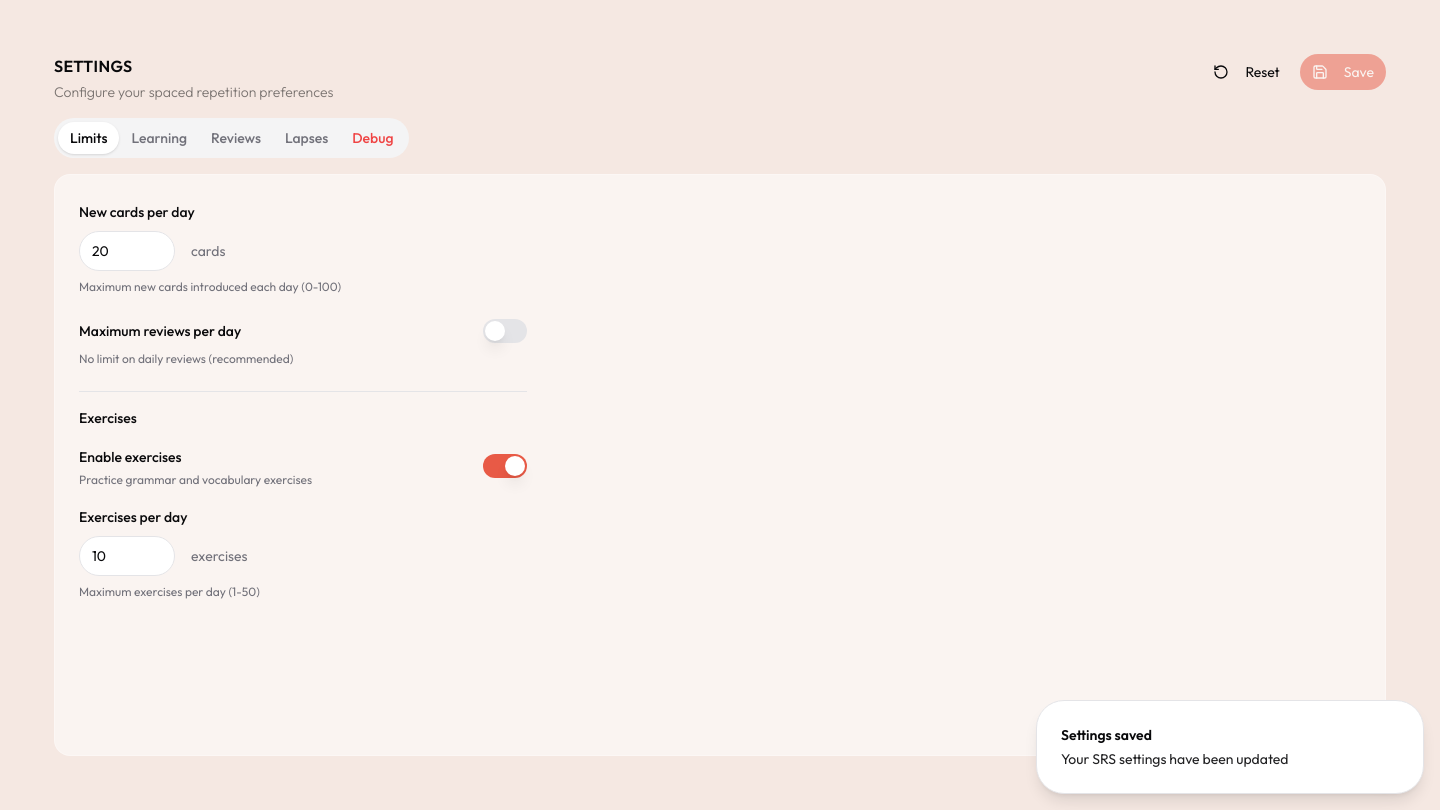
Scenario: Settings Page › resets to defaults
Note: Change a value first
Replace the text in the number field labelled "New cards per day" with "5" at point(127, 251), box left=79, top=231, right=175, bottom=271
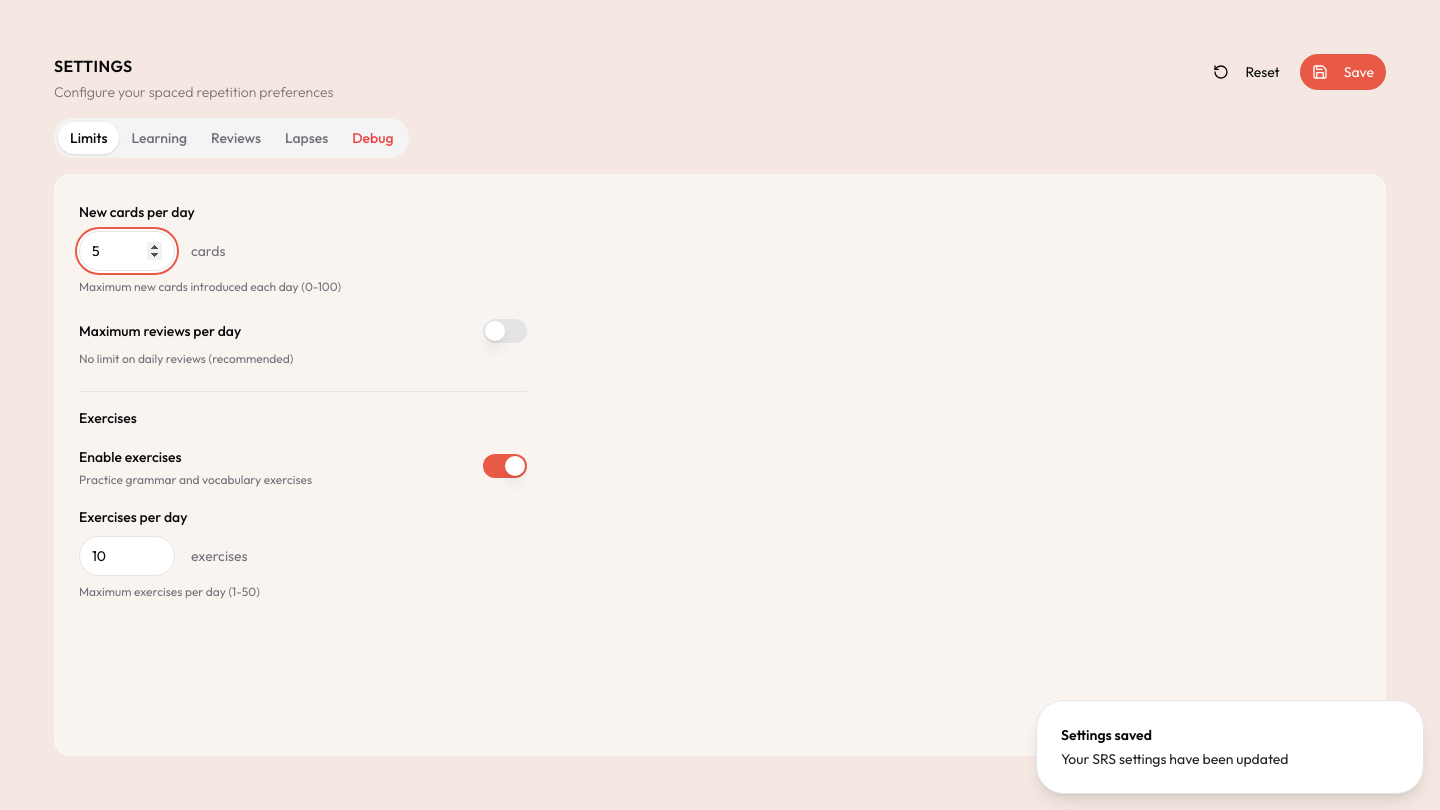
Note: Click Reset
Click the button "Reset".
click(1247, 72)  # box left=1201, top=54, right=1292, bottom=90
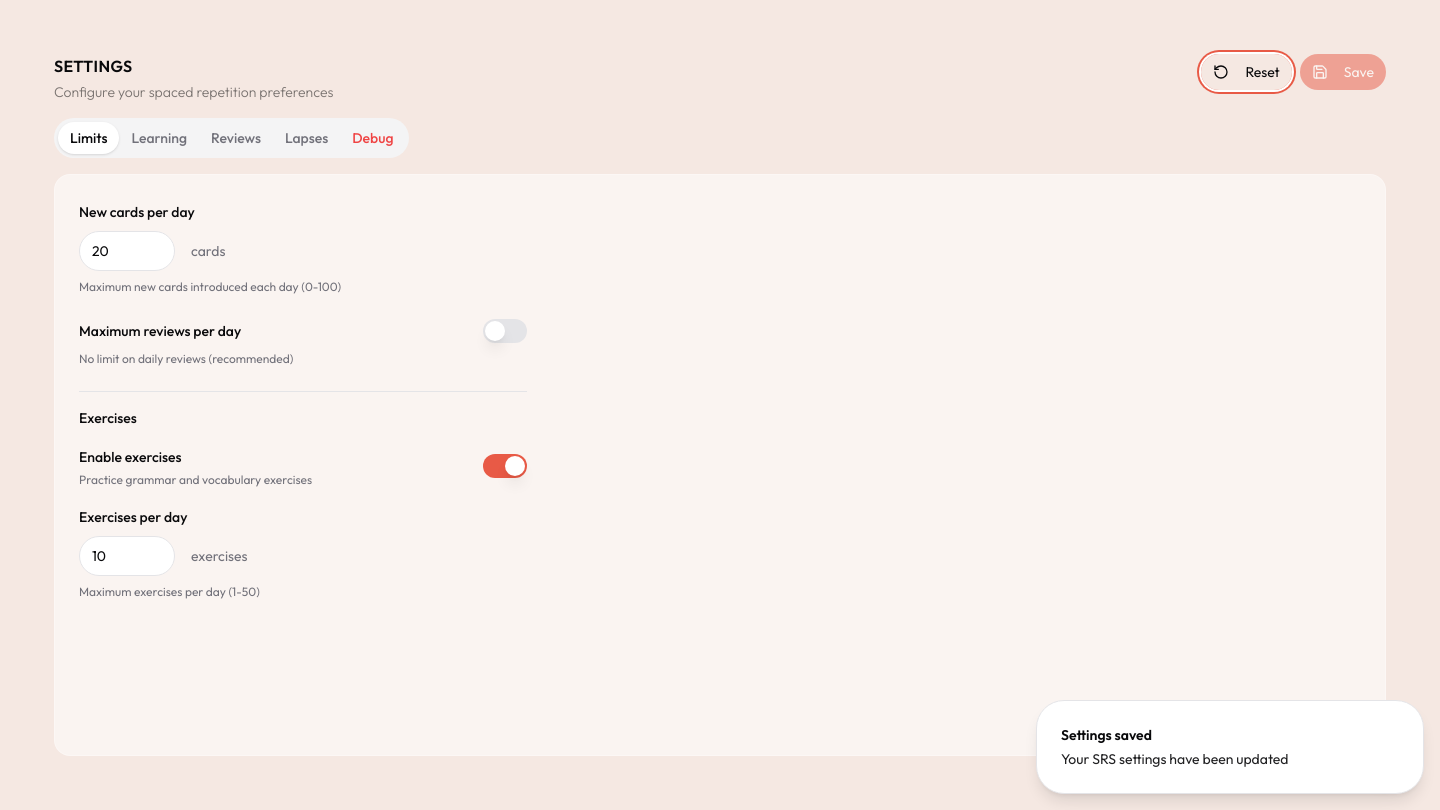
Now the number field labelled "New cards per day" holds "20", box left=79, top=231, right=175, bottom=271
